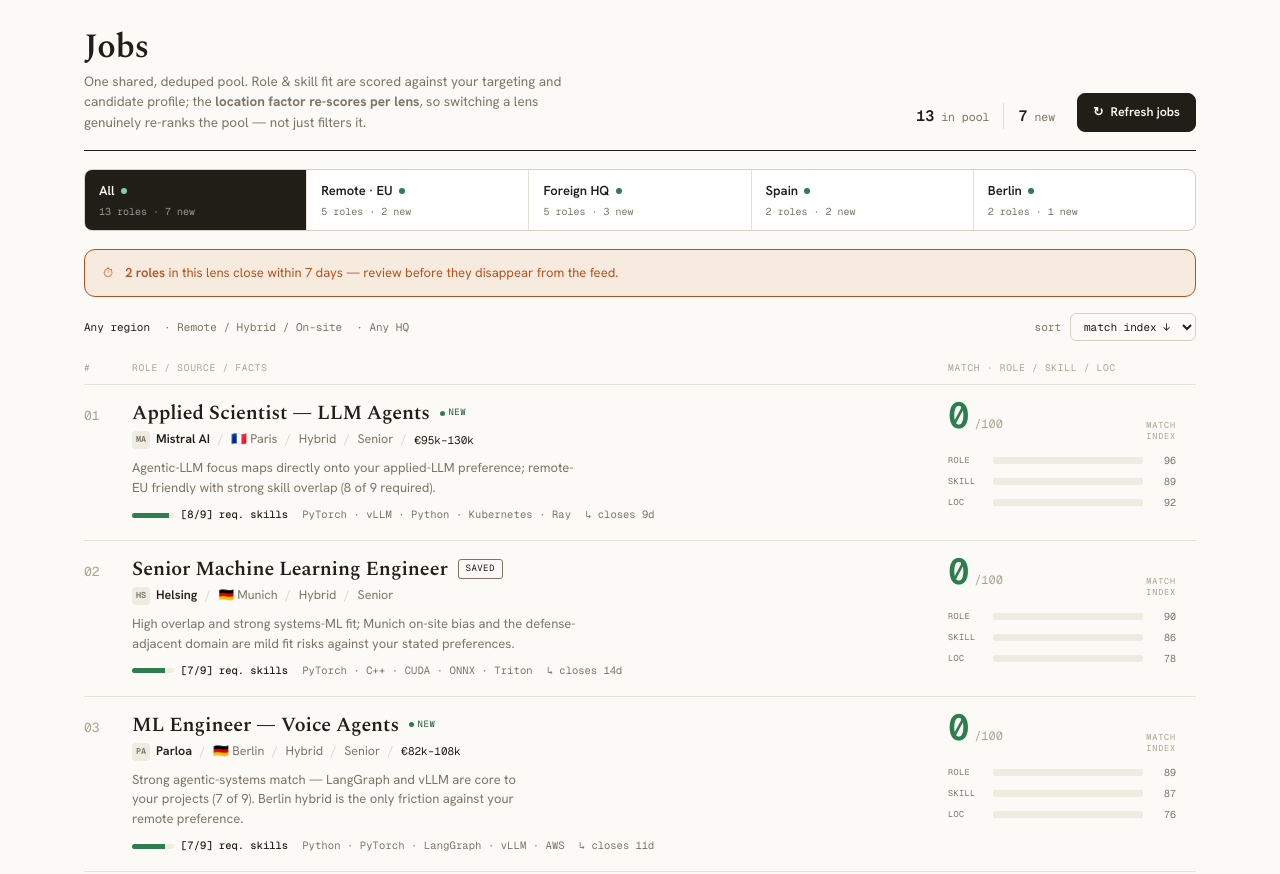
JobsView › when a refreshed pool prop arrives › surfaces a failed lens fetch instead of silently showing the previous lens
The width and height of the screenshot is (1280, 874).
Click the button "Remote · EU 5 roles · 2 new" at [418, 200], box [307,170,529,230]
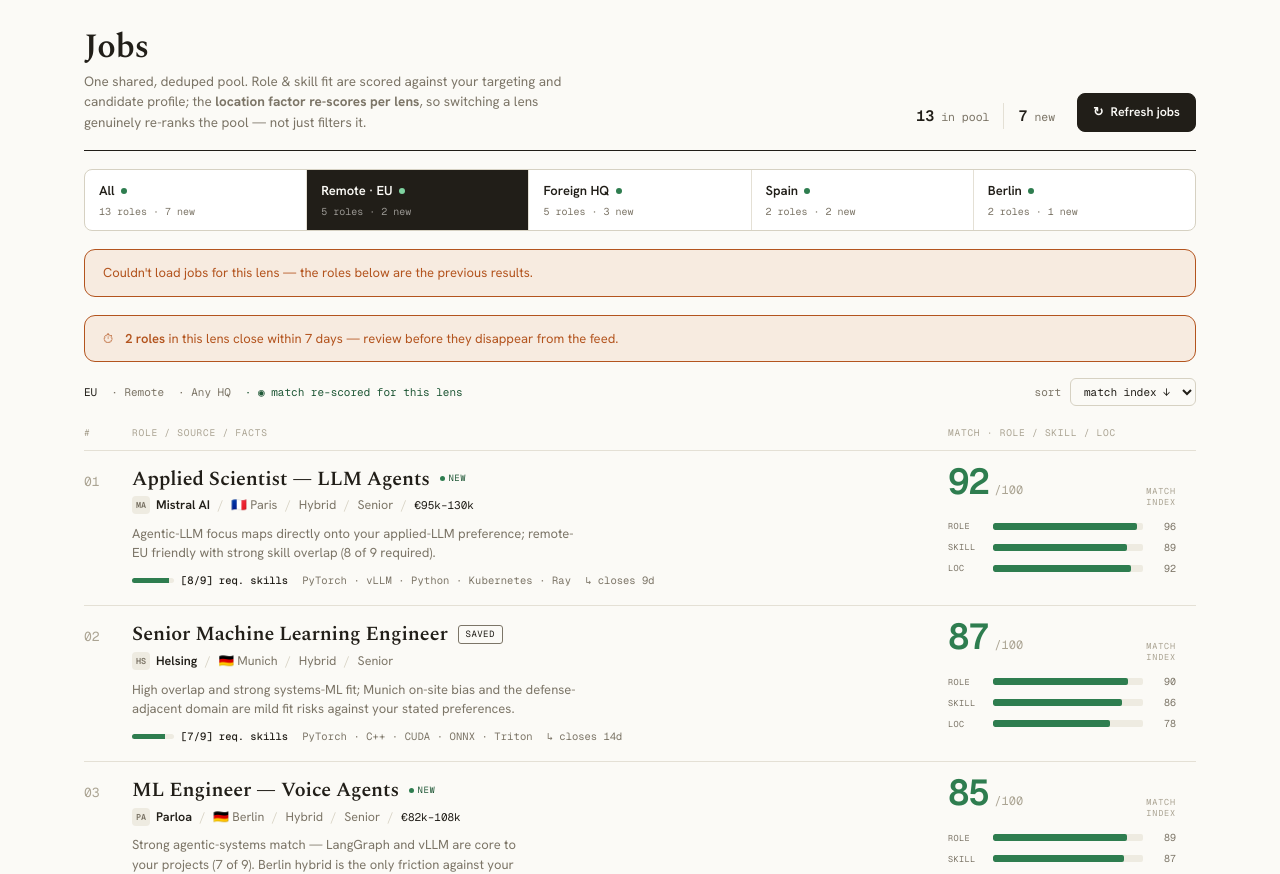
Check: the message shows "Couldn't load", box [103,264,533,281]
